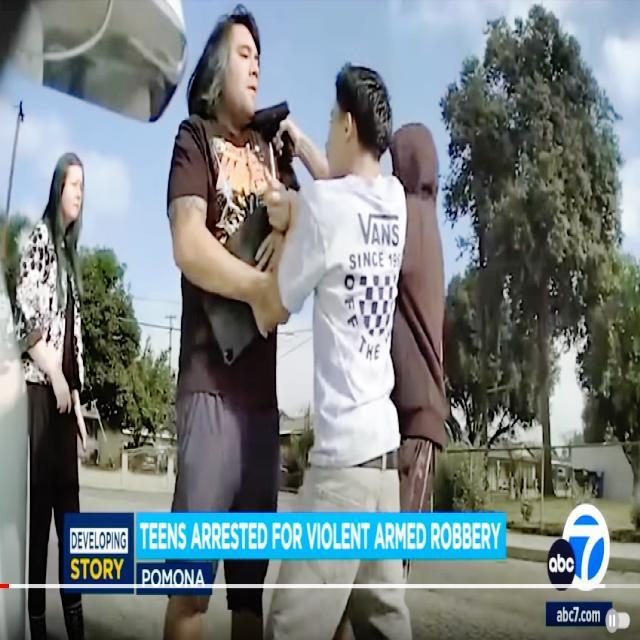Gun: (237, 93, 305, 179)
